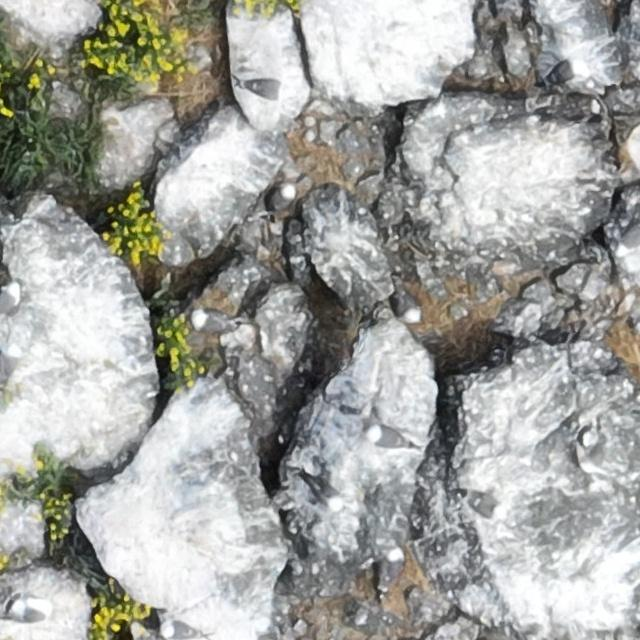umineko: (307, 471, 345, 512), (10, 594, 53, 630), (1, 282, 24, 317), (368, 428, 408, 448), (384, 550, 404, 589), (191, 312, 231, 331), (546, 60, 578, 83), (161, 620, 201, 638), (398, 291, 420, 322), (469, 496, 501, 516), (270, 185, 293, 212), (247, 78, 276, 96)
